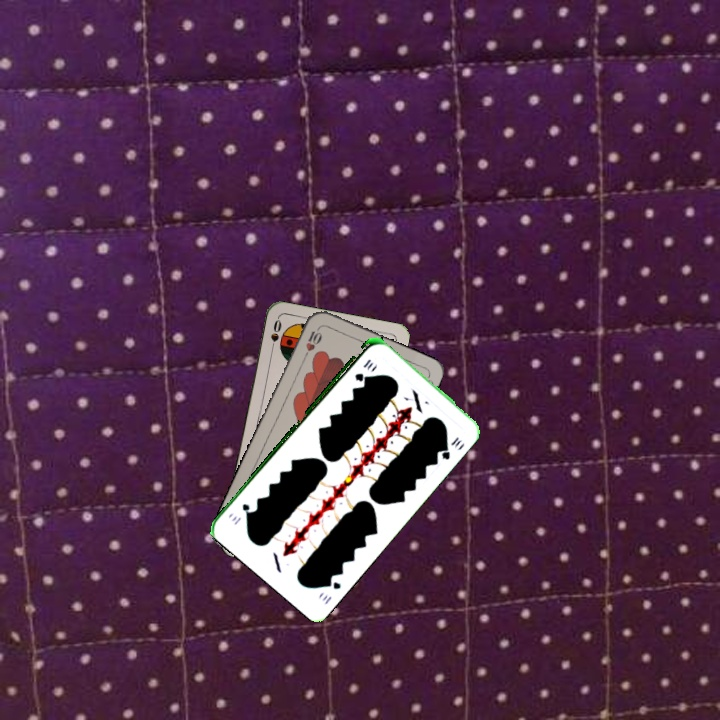G10: (318, 574, 343, 607), (351, 355, 376, 383)
H10: (299, 323, 324, 361)
SO: (266, 315, 284, 356)
